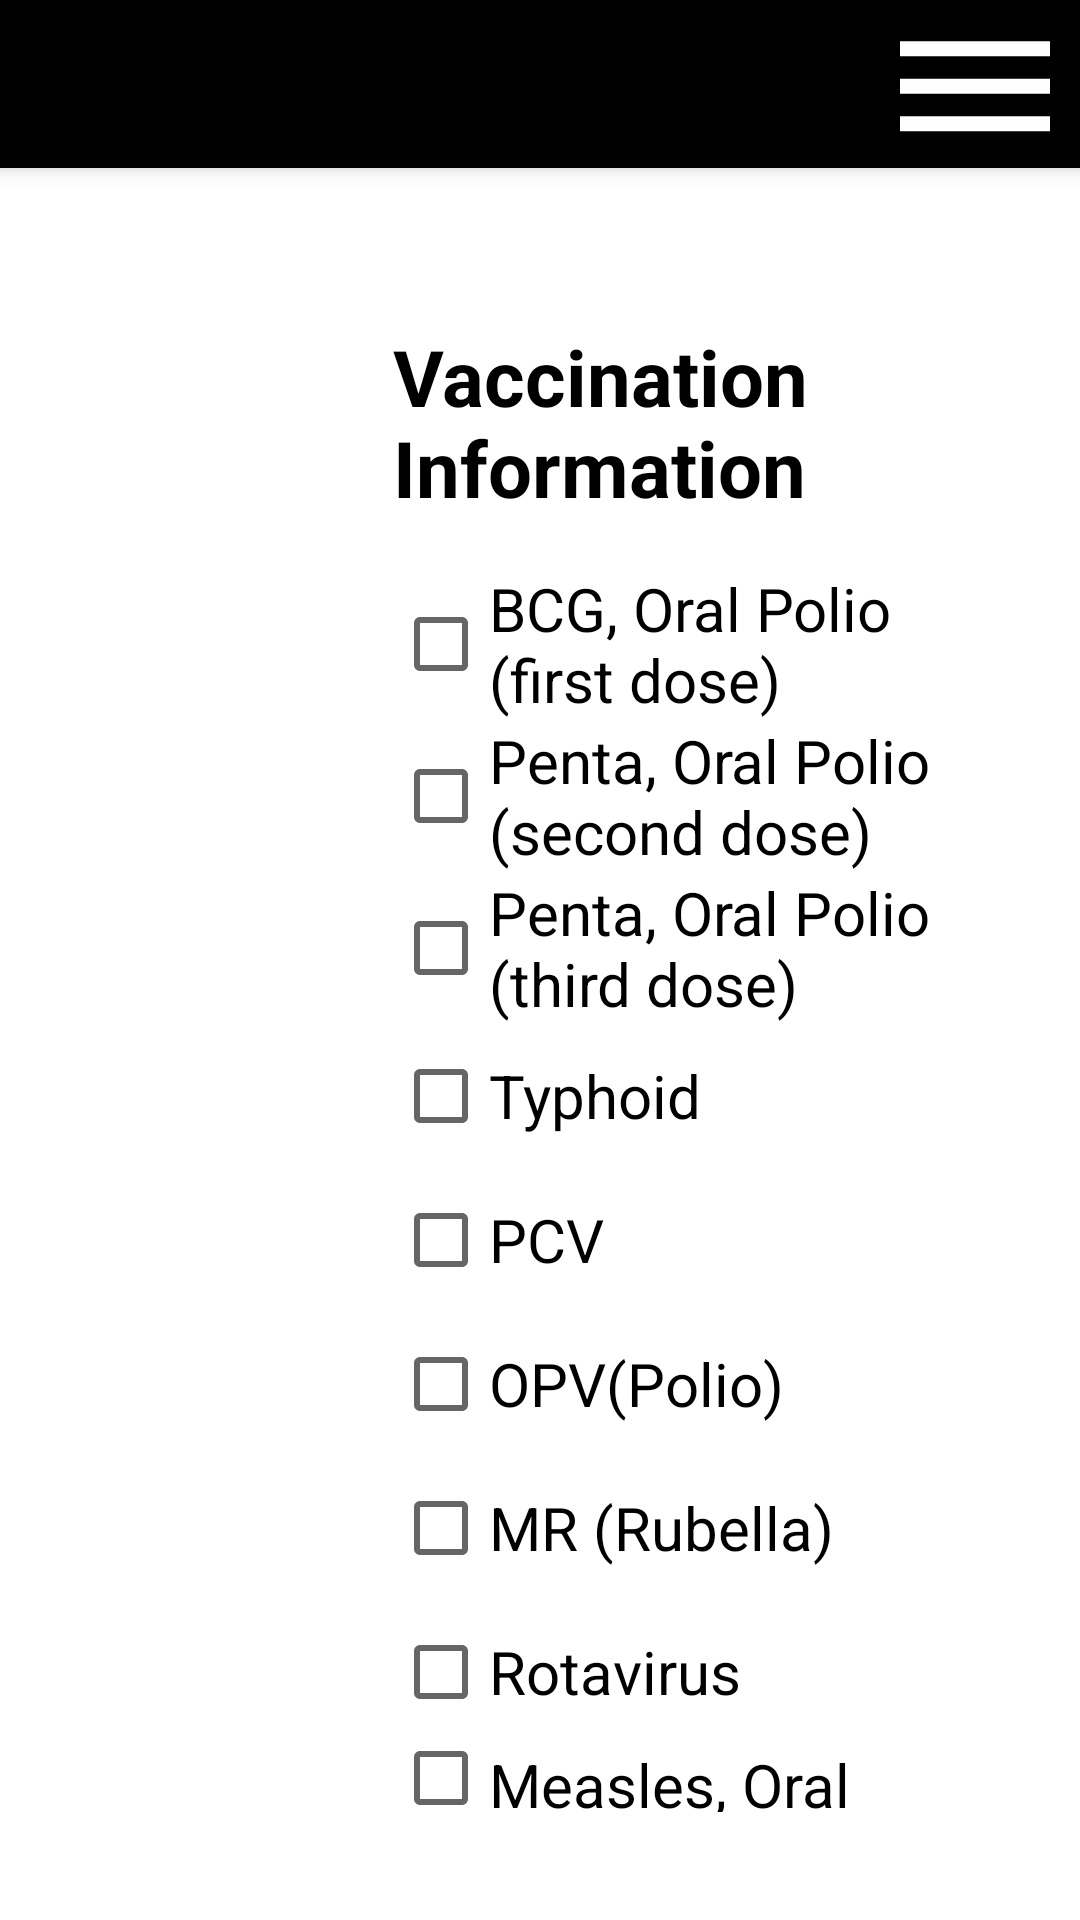

Icons on this 1080 x 1920 Android screen, each with the point to tap as (x=x, y=y):
dehaze: (x=975, y=86)
